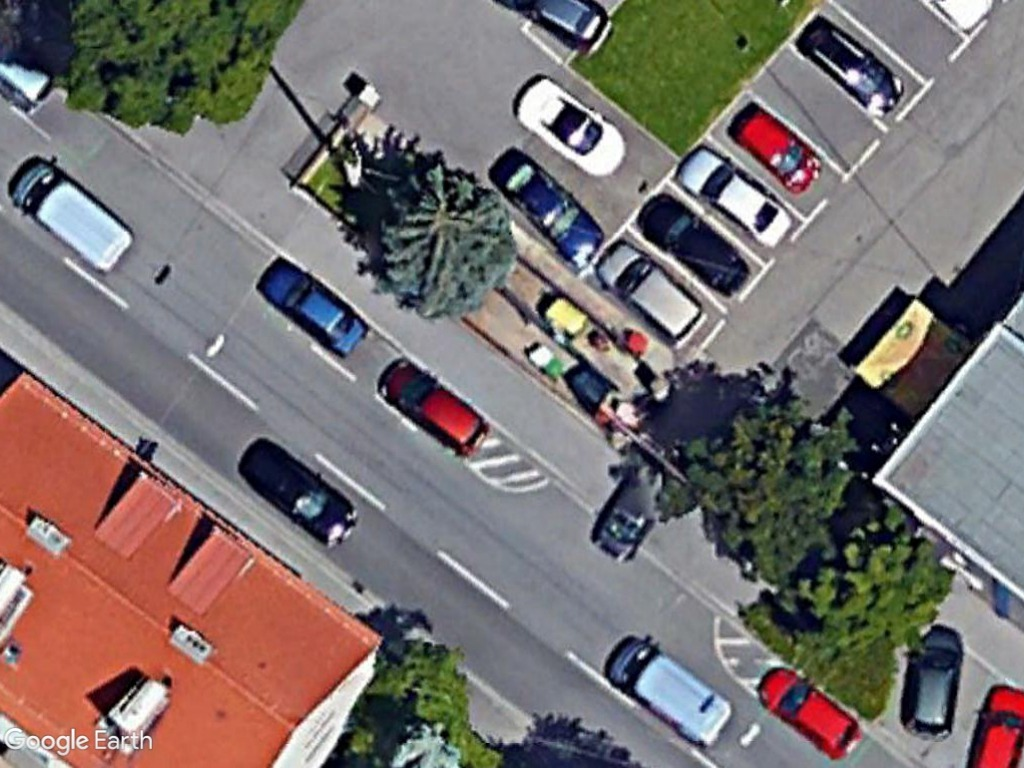car: (235, 432, 366, 553), (484, 148, 609, 268), (506, 73, 633, 182), (673, 143, 799, 252), (593, 236, 709, 350), (375, 353, 495, 462), (635, 188, 753, 297), (255, 254, 368, 360), (794, 17, 911, 118), (753, 662, 864, 762), (728, 100, 828, 198), (898, 620, 969, 743)
van: (0, 153, 141, 277), (606, 632, 737, 754)
